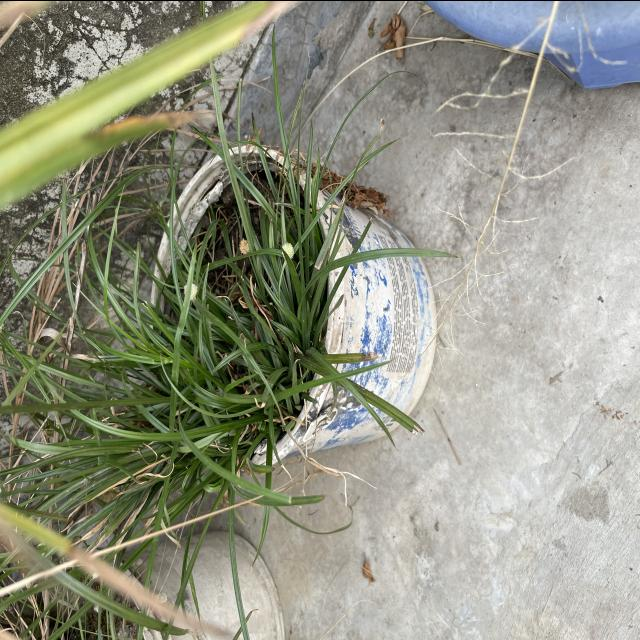Breeding Place: (148, 168, 434, 450)
